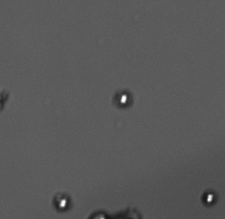Living Cell: (53, 192, 72, 211), (114, 89, 132, 108), (201, 188, 218, 206)
